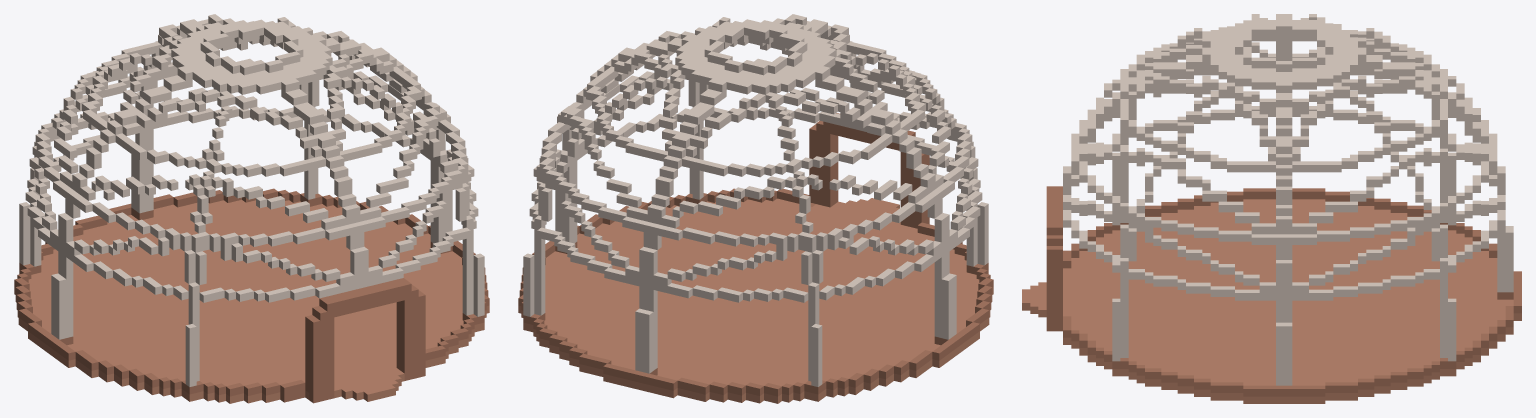
File: terrario.fbx
3 renders of one model, left to right at view 1: azimuth 30°, elevation 25°; view 2: azimuth 150°, elevation 25°; view 3: azimuth 270°, elevation 25°, orthographic.
Parts seen in each view (by area): view 1: terrario_58x35x61; view 2: terrario_58x35x61; view 3: terrario_58x35x61.
Part boxes in pixels (left/top/right/bottom): terrario_58x35x61: left=14, top=14, right=489, bottom=403; terrario_58x35x61: left=518, top=14, right=993, bottom=403; terrario_58x35x61: left=1022, top=14, right=1521, bottom=403.
Bounding box in the file's own units: 967 × 583 × 1017.
